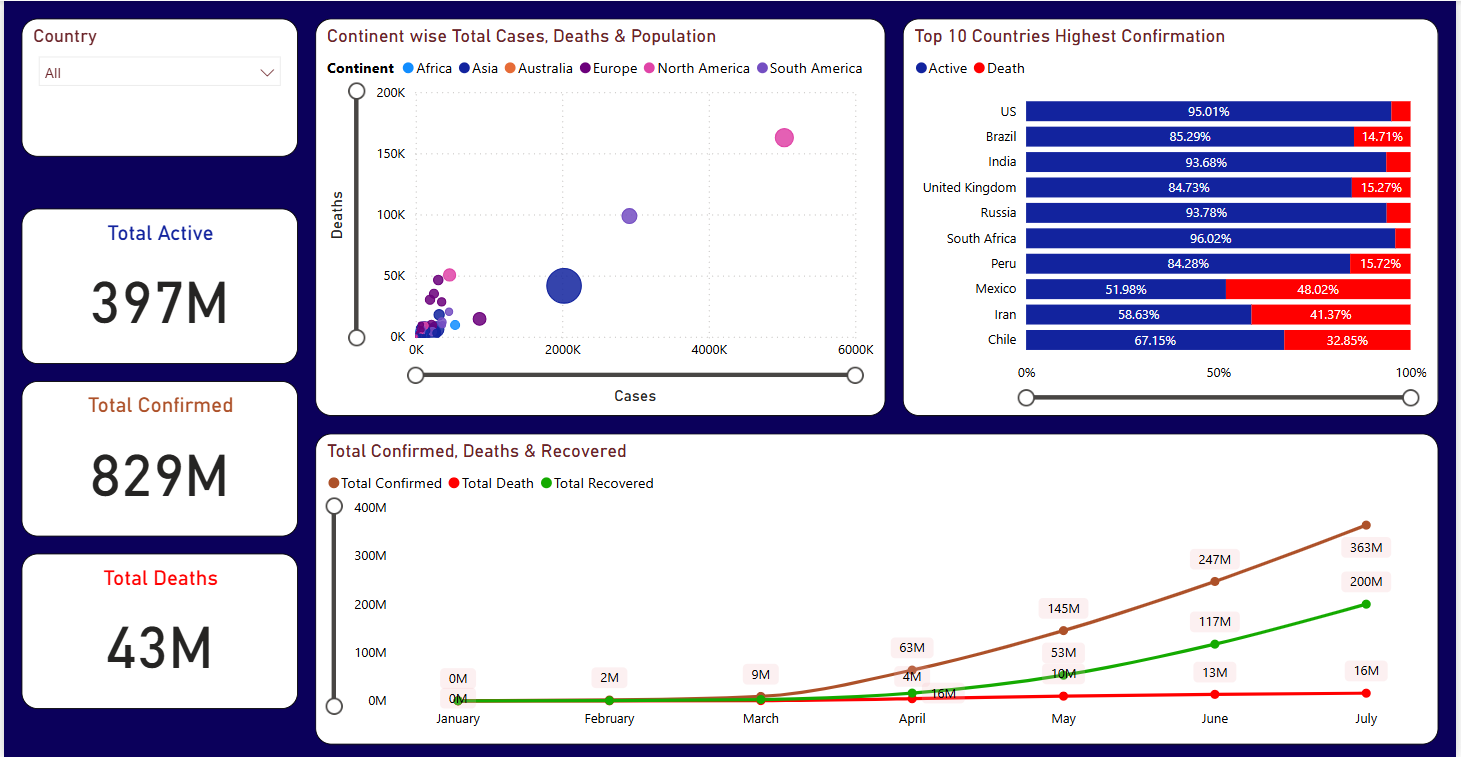

What the dashboard file says about the page in this screenshot:
{"tool":"powerbi","page":{"name":"Country Deep Dive","canvas":[1345,700],"ordinal":1},"visuals":[{"type":"card","title":"Total Active","fields":{"Values":["Sum(CasesByCountryDaily.Active)"]},"box":[16,192,256,144],"z":0},{"type":"card","title":"Total Confirmed","fields":{"Values":["Sum(CasesByCountryDaily.Confirmed)"]},"box":[16,352,256,144],"z":1000},{"type":"card","title":"Total Deaths","fields":{"Values":["Sum(CasesByCountryDaily.Deaths)"]},"box":[16,512,256,144],"z":2000},{"type":"lineChart","title":"Total Confirmed, Deaths & Recovered ","fields":{"Y":["View.Total Confirmed","View.Total Death","View.Total Recovered"],"Category":["CasesByCountryDaily.Date.Variation.Date Hierarchy.Month","CasesByCountryDaily.Date.Variation.Date Hierarchy.Day"]},"box":[288,400,1040,288],"z":3000},{"type":"hundredPercentStackedBarChart","title":"Top 10 Countries Highest Confirmation","fields":{"Category":["LatestByCountry.Country"],"Y":["View.Active","View.Death"]},"box":[832,16,496,368],"z":4000},{"type":"scatterChart","title":"Continent wise Total Cases, Deaths & Population","fields":{"X":["LatestWorldometer.Total_Cases"],"Y":["LatestWorldometer.Total_Deaths"],"Size":["Sum(LatestWorldometer.Population)"],"Series":["LatestWorldometer.Continent"]},"box":[288,16,528,368],"z":5000},{"type":"slicer","title":"Country","fields":{"Values":["LatestByCountry.Country"]},"box":[16,16,256,128],"z":6000}]}

Visuals, with their boxes in screenshot pixels (x1, y1, x2, y2), scaled from the page's 1345x700 canvas onto the 1461x757 screenshot:
"Total Active" card: x1=17, y1=208, x2=295, y2=363
"Total Confirmed" card: x1=17, y1=381, x2=295, y2=536
"Total Deaths" card: x1=17, y1=554, x2=295, y2=709
"Total Confirmed, Deaths & Recovered " lineChart: x1=313, y1=433, x2=1443, y2=744
"Top 10 Countries Highest Confirmation" hundredPercentStackedBarChart: x1=904, y1=17, x2=1443, y2=415
"Continent wise Total Cases, Deaths & Population" scatterChart: x1=313, y1=17, x2=886, y2=415
"Country" slicer: x1=17, y1=17, x2=295, y2=156
